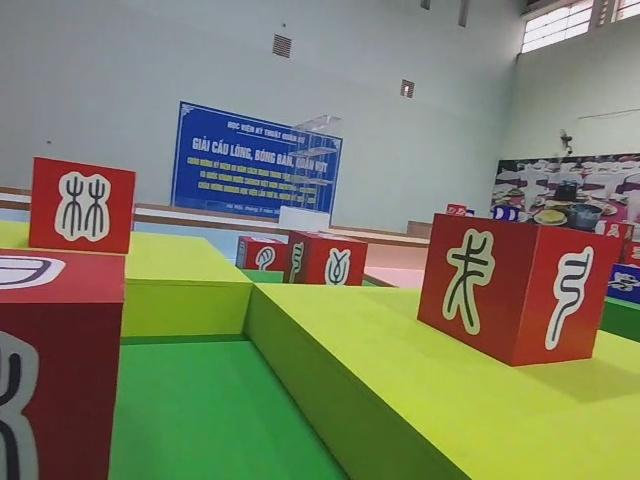R2 Fake: (415, 209, 622, 371), (0, 246, 127, 480), (27, 152, 139, 256), (283, 227, 370, 289), (235, 233, 289, 277)
